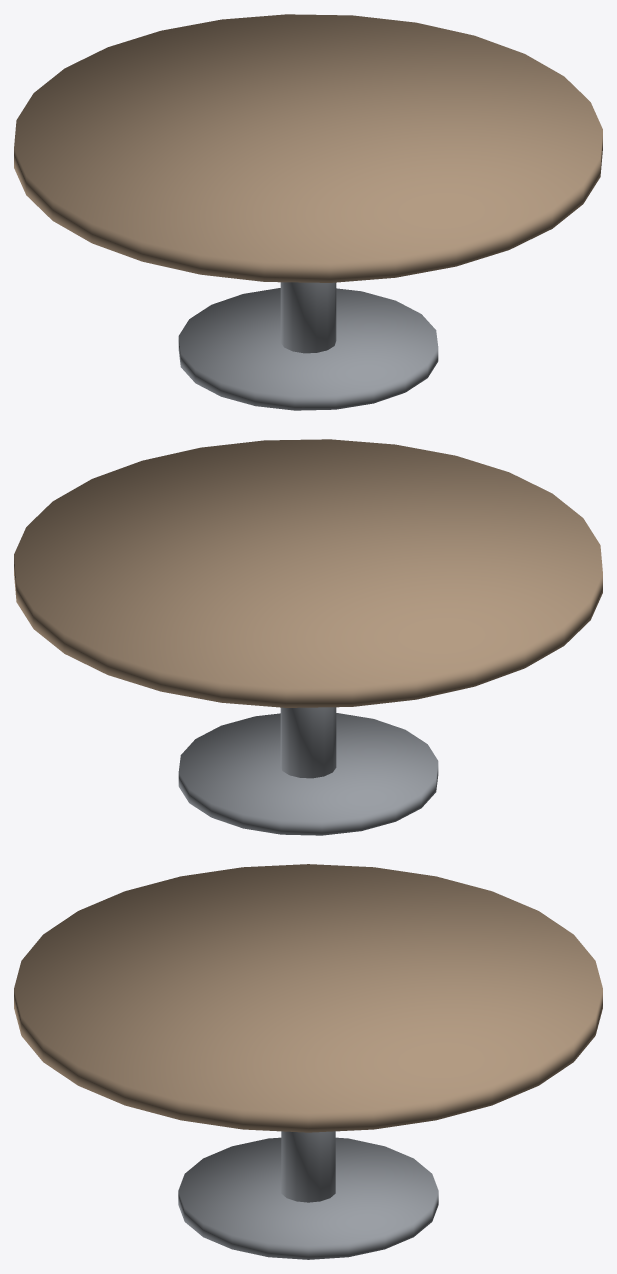
The model's file is table.glb.
The picture shows the model from 3 angles, top to bottom: view 1: azimuth 30°, elevation 25°; view 2: azimuth 150°, elevation 25°; view 3: azimuth 270°, elevation 25°; orthographic projection.
Parts seen in each view (by area): view 1: table; view 2: table; view 3: table.
Boxes of the visible parts, bbox=[...] form: table: bbox=[14, 14, 602, 410]; table: bbox=[14, 439, 602, 835]; table: bbox=[14, 864, 602, 1259].
Size of the model in its own units: 1.9 by 0.77 by 1.9.
